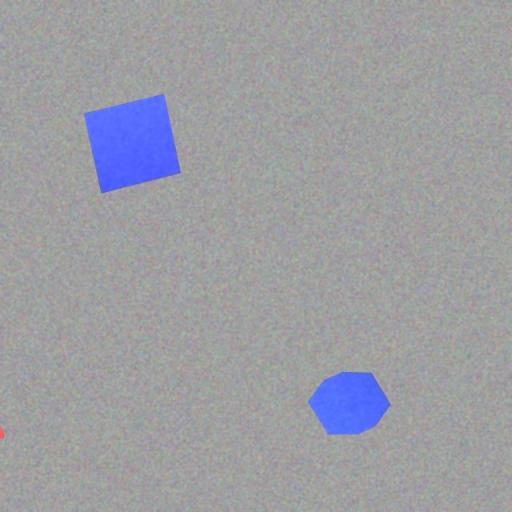BLUE_SQUARE: (83, 94, 182, 194)
